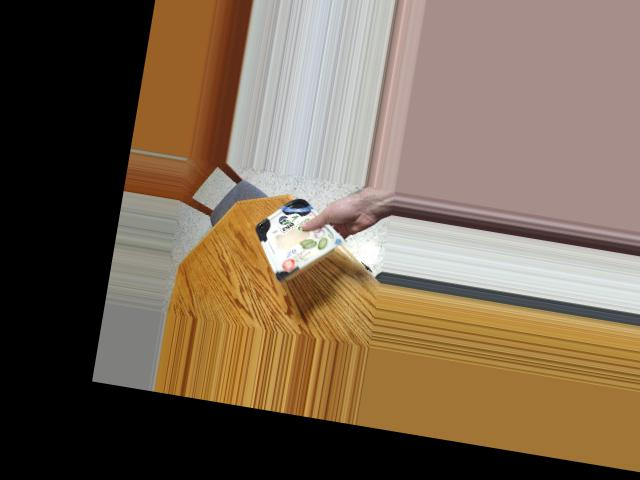cheese: (251, 203, 340, 276)
